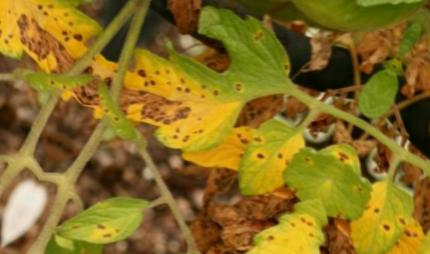Tomato Septoria leaf spot: (75, 1, 288, 200), (219, 101, 323, 214)
